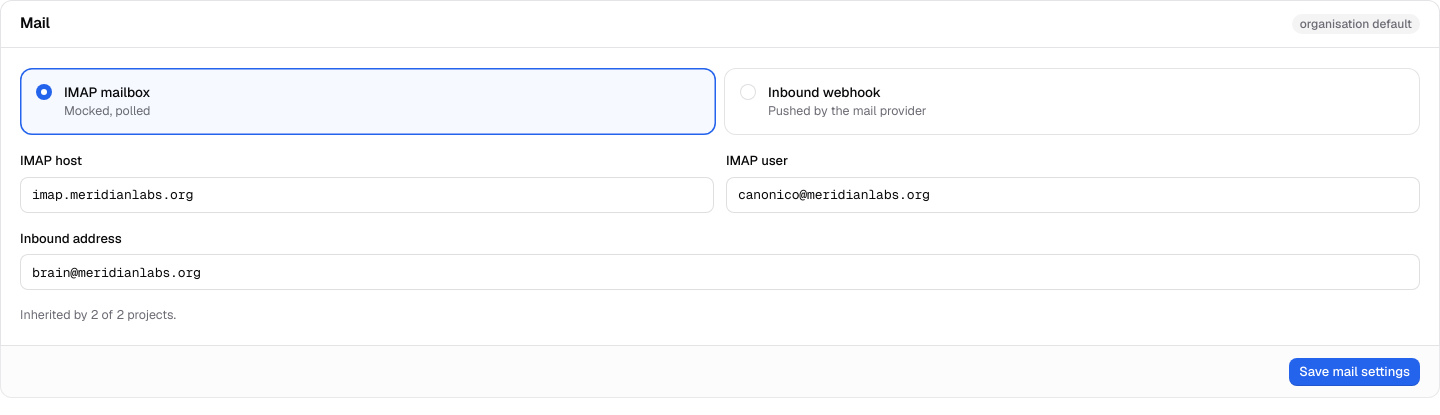
Test: OrgMailCard › switching the mode shows and hides the IMAP fields
Expected: the button "Save mail settings" is shown, [1289,358,1420,386]
Click the button "Inbound webhook Pushed by the mail provider" at (825, 92), box [724,68,1420,135]
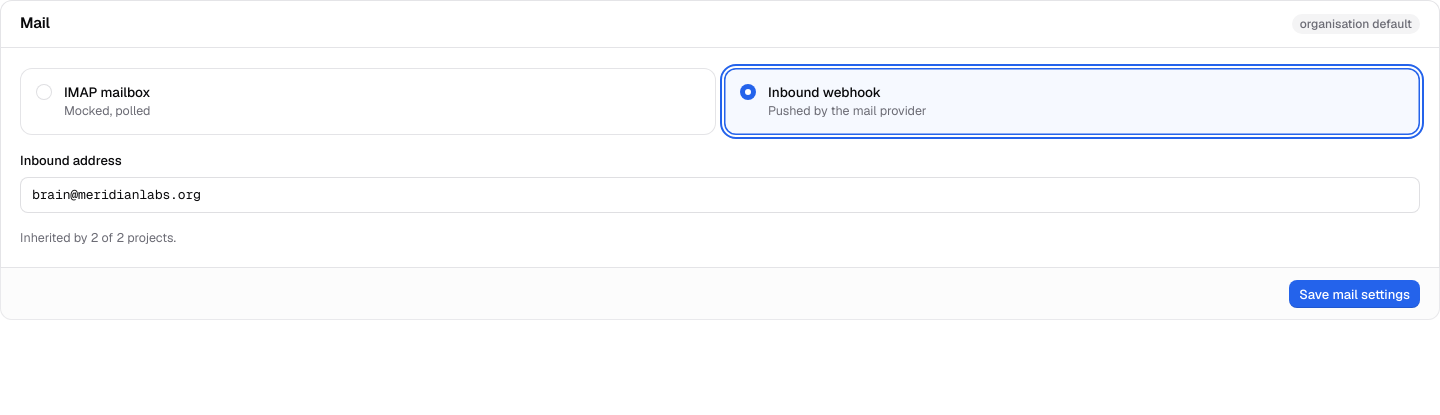
Result: the button "Inbound webhook Pushed by the mail provider" has class "on" at [724,68,1420,135]
Result: the button "IMAP mailbox Mocked, polled" does not have class "on"
Click the button "IMAP mailbox Mocked, polled" at (107, 92), box [20,68,716,135]
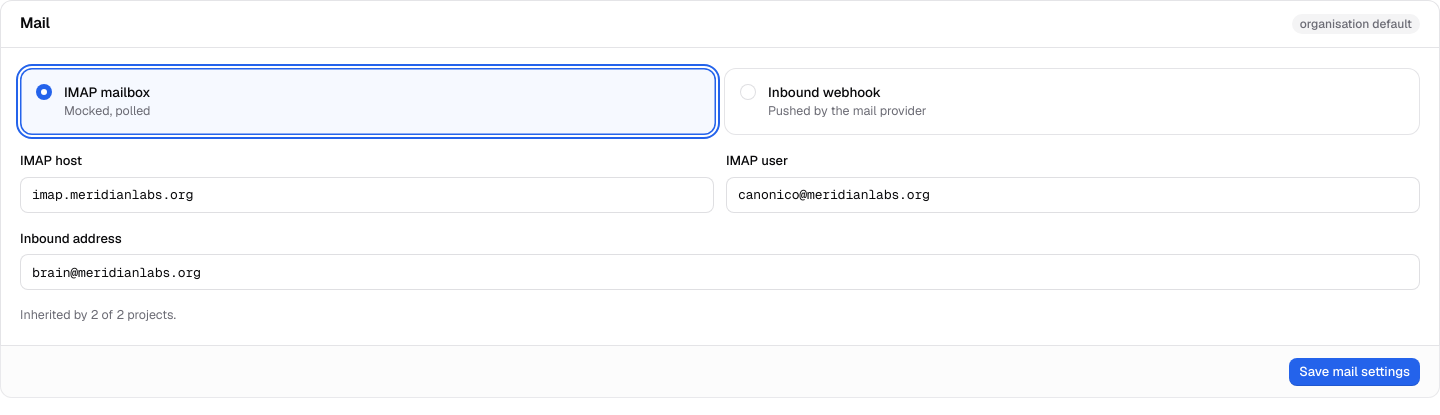
Result: the field below "IMAP host" holds "imap.meridianlabs.org" at [20,176,714,212]
